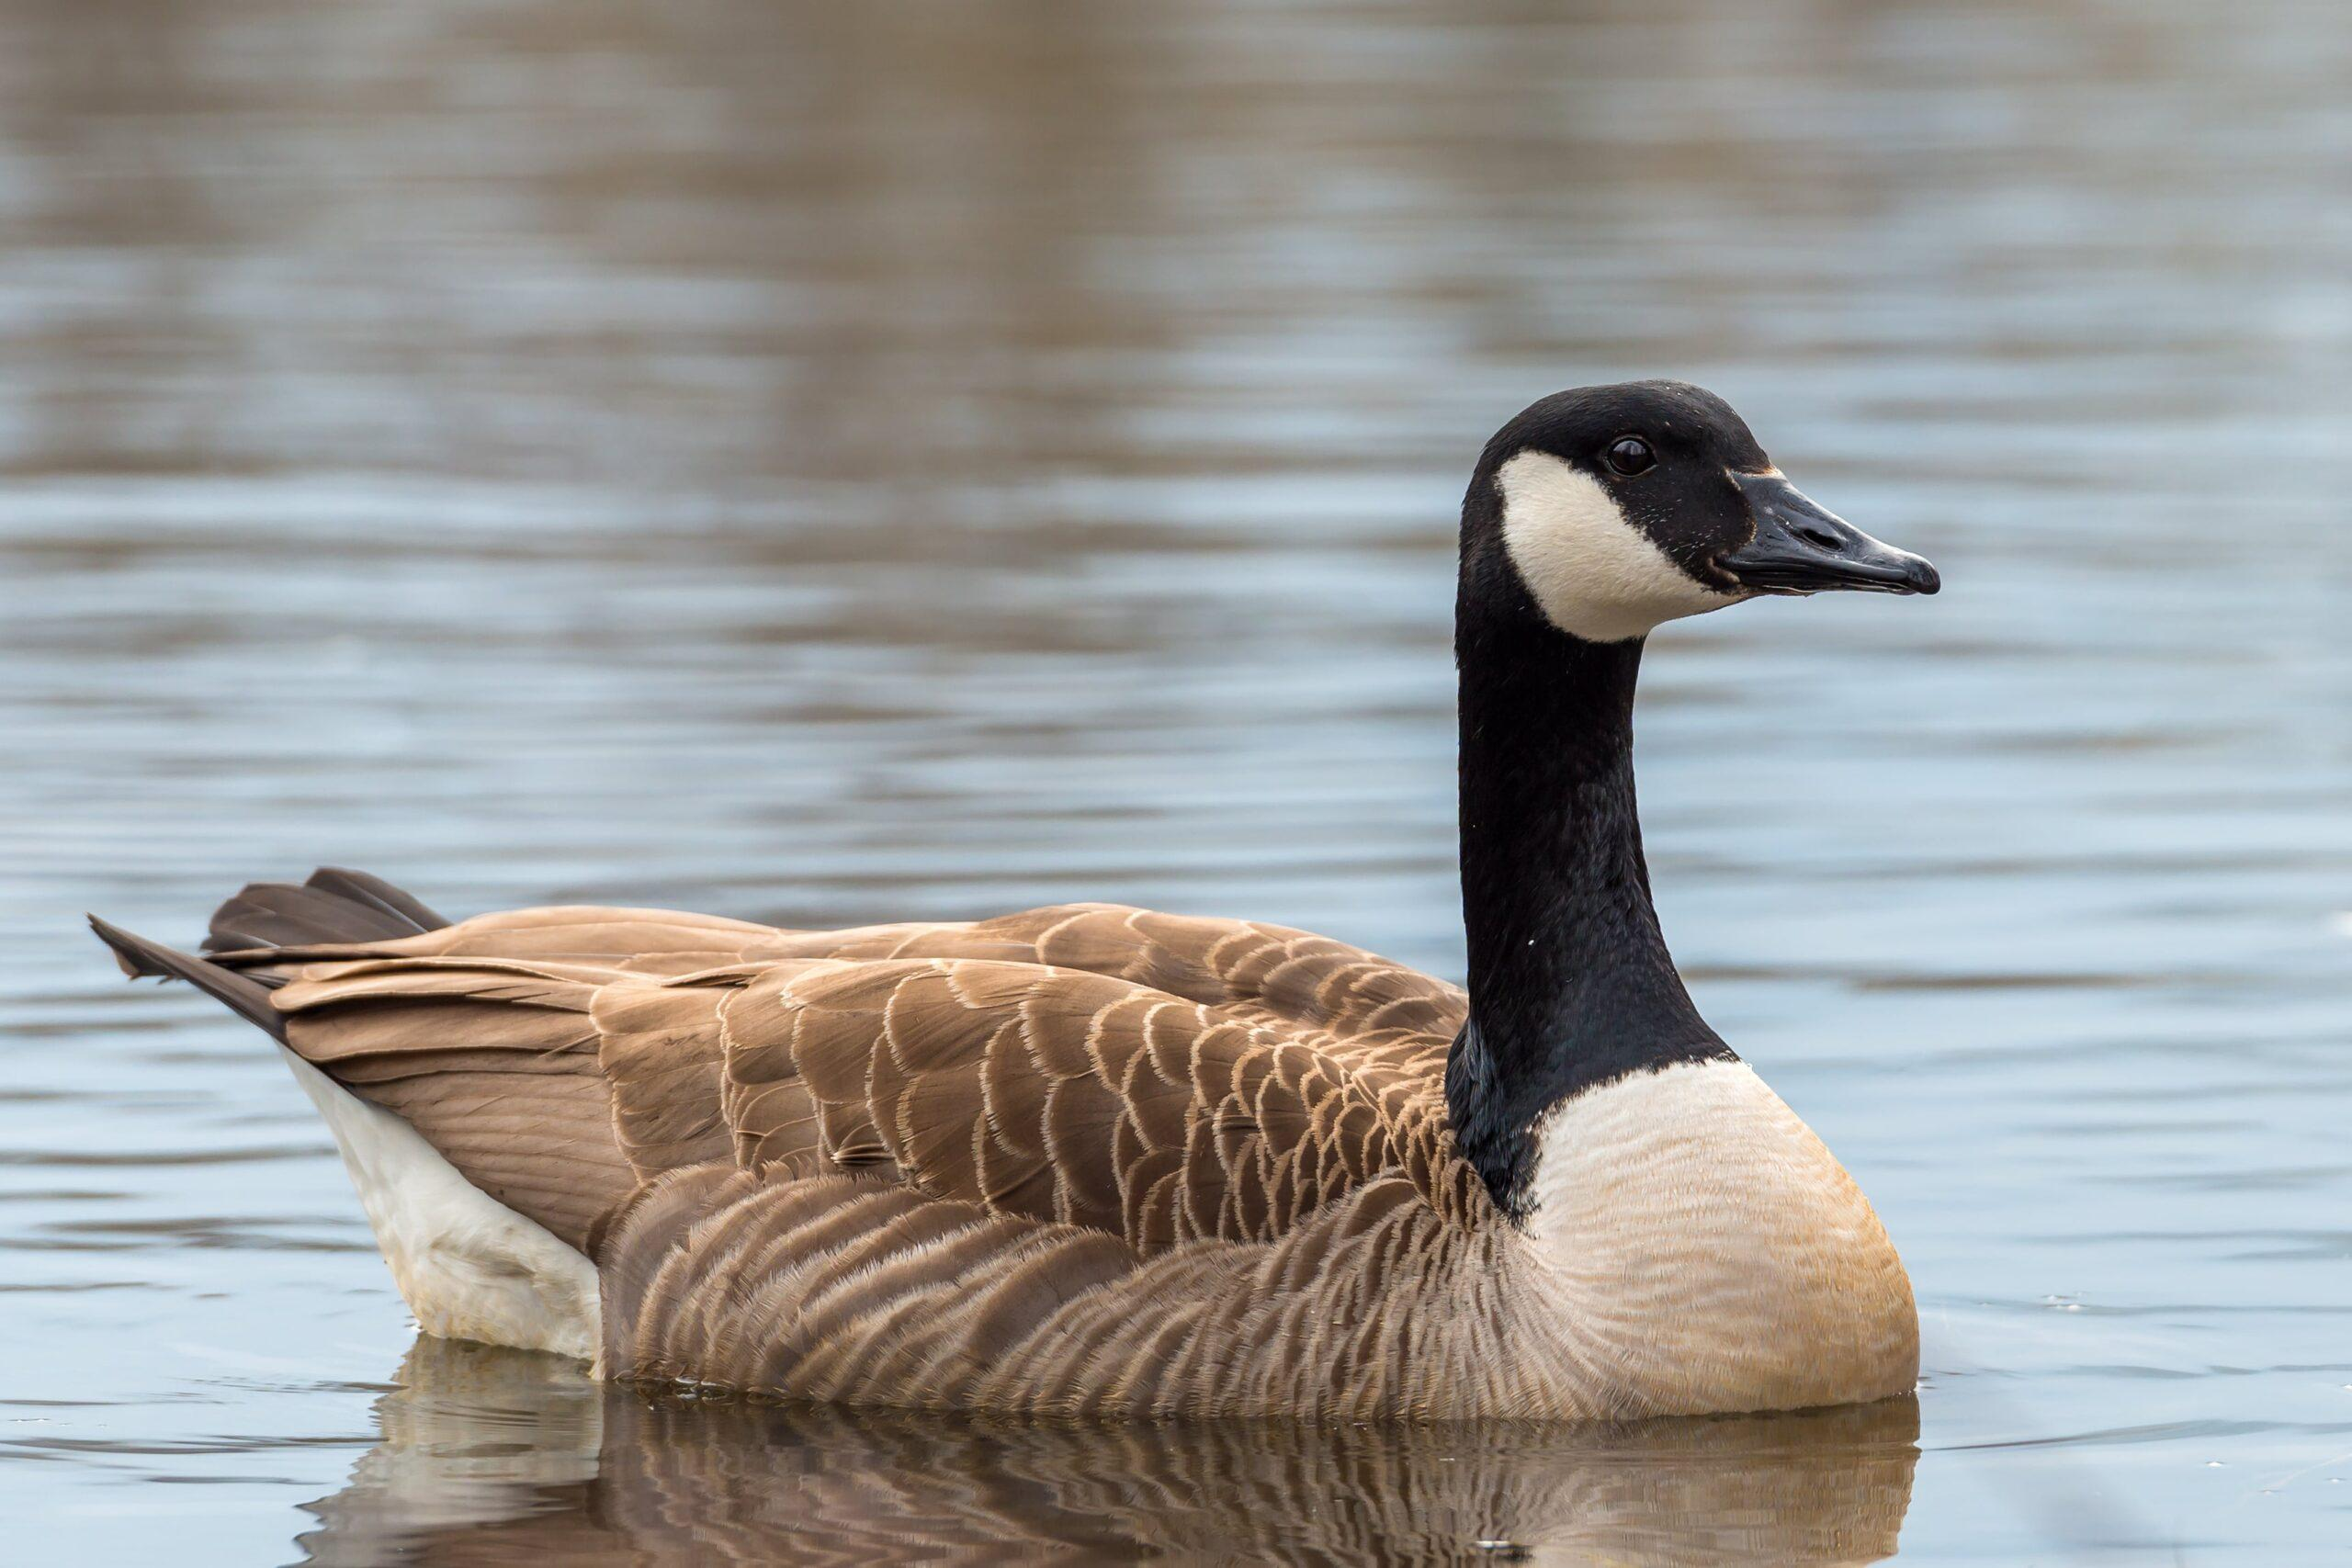Canadian-Goose: (152, 380, 1948, 1426)
